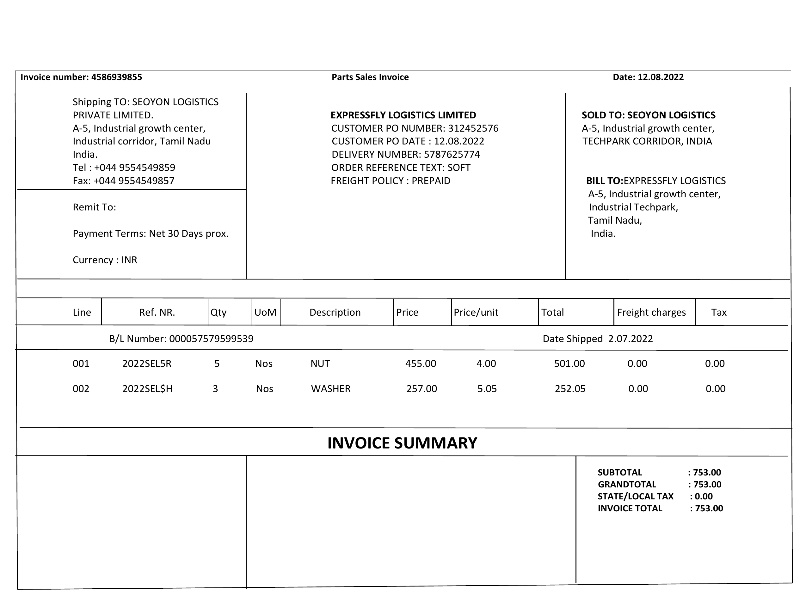Bordered: (17, 299, 790, 429)
